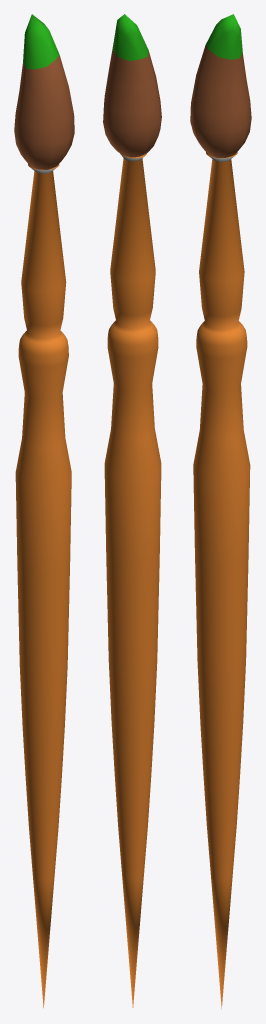
File: Brush.fbx
3 views of the same model, side by side, from view 1: azimuth 90°, elevation 25°; view 2: azimuth 210°, elevation 25°; view 3: azimuth 270°, elevation 25° (orthographic).
Parts seen in each view (by area): view 1: Sphere, Sphere.001; view 2: Sphere, Sphere.001; view 3: Sphere, Sphere.001.
Boxes of the visible parts, box(x1,y1,x2,y2) form: Sphere: box(15, 164, 71, 1008); Sphere.001: box(14, 14, 74, 169); Sphere: box(104, 153, 161, 1007); Sphere.001: box(103, 14, 161, 157); Sphere: box(193, 152, 250, 1008); Sphere.001: box(190, 14, 251, 157).
Bounding box in the file's own units: 43.36 × 845 × 46.88.
